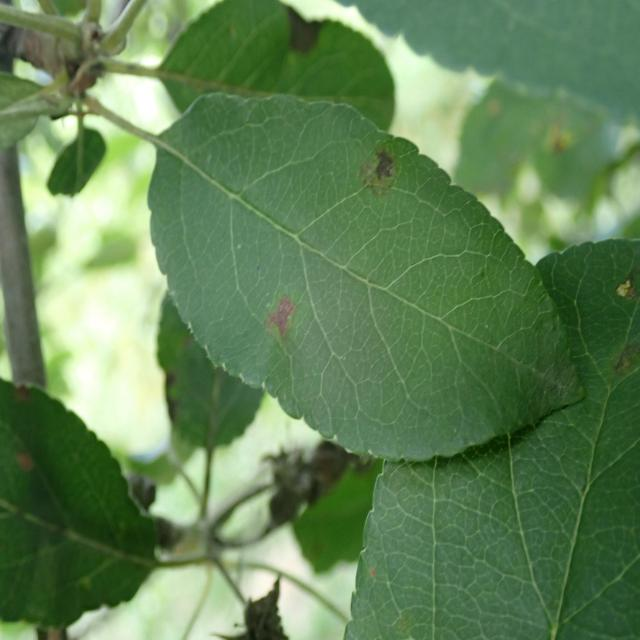scab: (212, 64, 446, 430)
